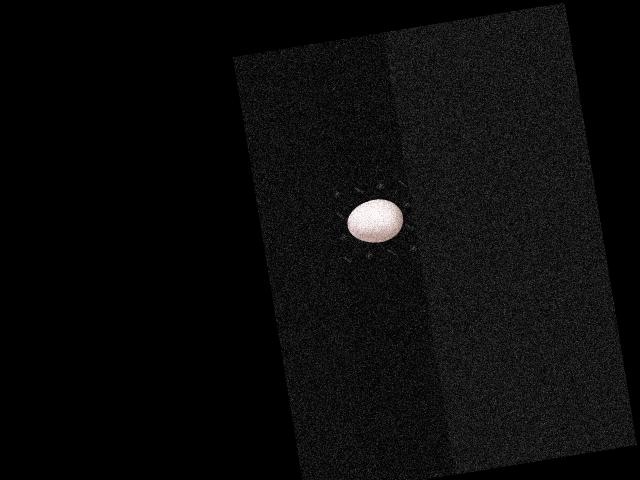egg: (344, 195, 406, 245)
